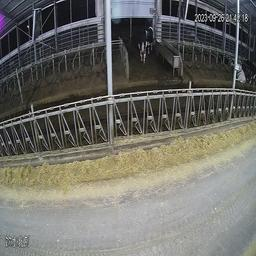cow: (137, 27, 148, 63), (233, 60, 246, 83), (247, 59, 255, 90), (148, 25, 155, 50)
